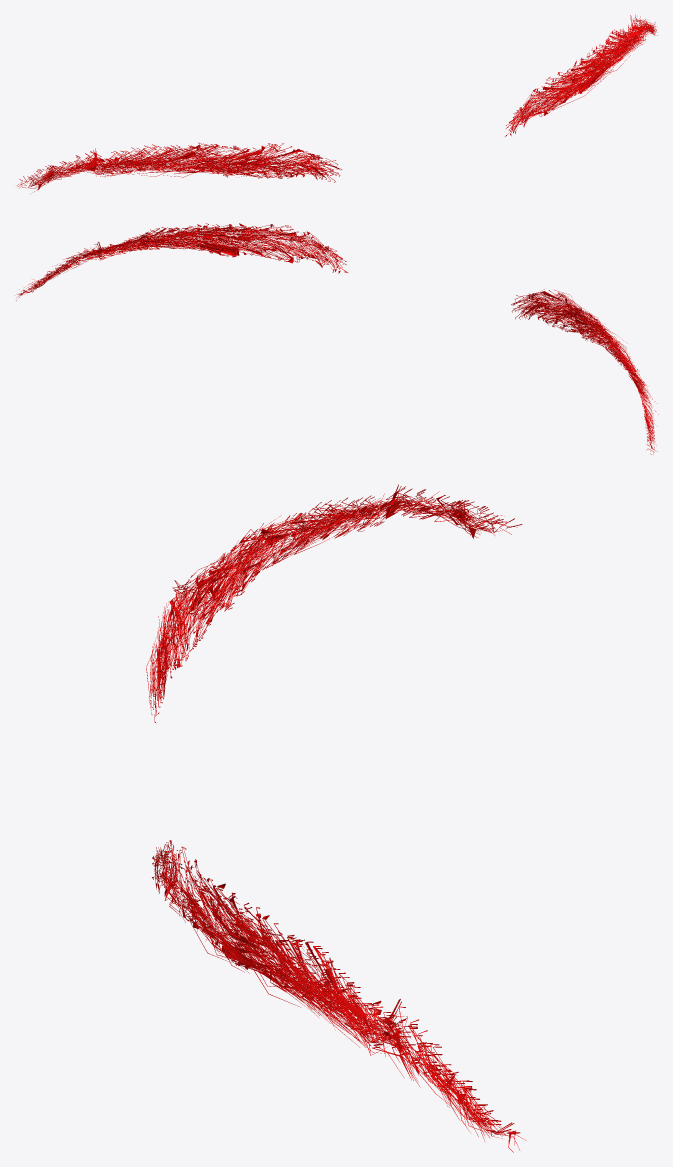
Rendered from mindfront_eyebrows_04_M.glb.
3 renders of one model, top to bottom at view 1: azimuth 30°, elevation 25°; view 2: azimuth 150°, elevation 25°; view 3: azimuth 270°, elevation 25°, orthographic. The views are drawn at different scales.
Bounding box in the file's own units: 0.1223 × 0.0115 × 0.0314.
1 material, 1 textured.
